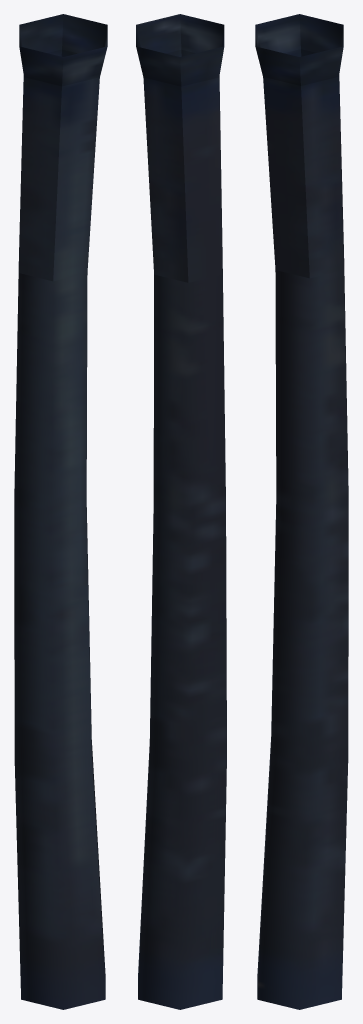
Rendered from HuBian_NightRailing07_FBX.FBX.
The picture shows the model from 3 angles, left to right: view 1: azimuth 90°, elevation 25°; view 2: azimuth 210°, elevation 25°; view 3: azimuth 270°, elevation 25°; orthographic projection.
Parts seen in each view (by area): view 1: HuBian_NightRailing07_FBX; view 2: HuBian_NightRailing07_FBX; view 3: HuBian_NightRailing07_FBX.
Part boxes in pixels (box(x1,y1,x2,y2)): HuBian_NightRailing07_FBX: box(14, 14, 107, 1009); HuBian_NightRailing07_FBX: box(136, 14, 226, 1009); HuBian_NightRailing07_FBX: box(255, 14, 348, 1009).
Bounding box in the file's own units: 0.0879 × 0.9058 × 0.0803.
